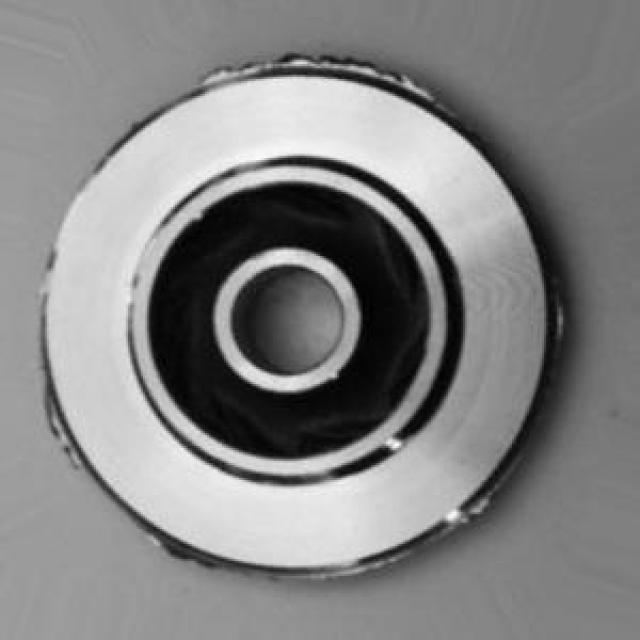Defect: (211, 56, 426, 74)
